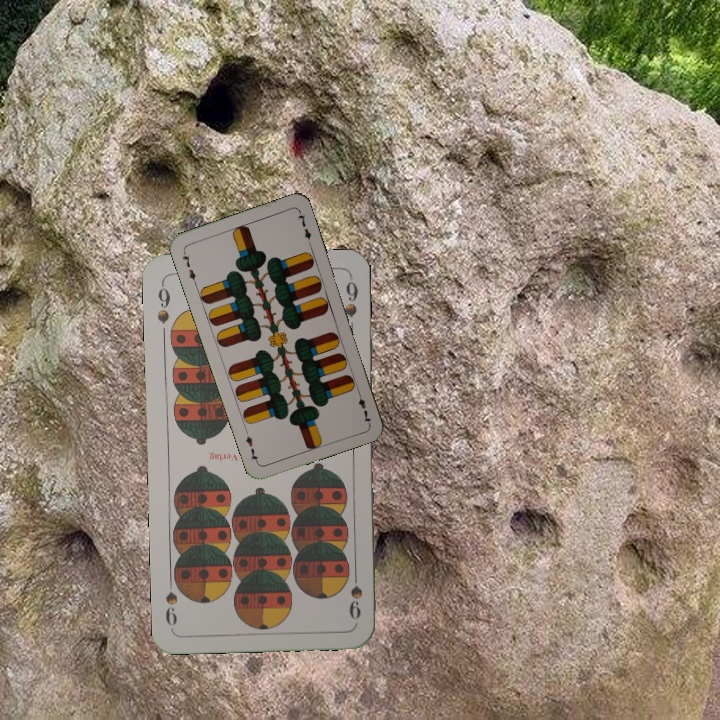E7: (179, 247, 199, 287), (353, 386, 373, 426)
S9: (345, 564, 365, 622), (153, 279, 173, 326)
